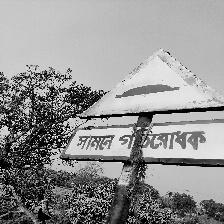Speed-breaker: (65, 46, 224, 171)
